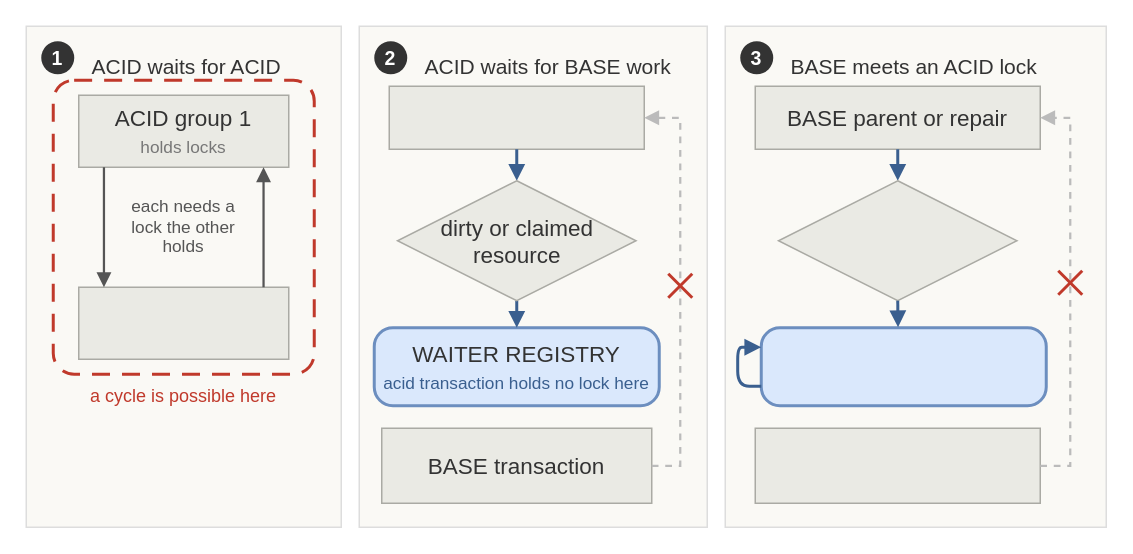
The diagram is 1133 pixels wide and 554 high, and some of its shapes have lost their labels. Each missing label, with the centre of its shape:
ACID group 2 holds locks: the point at 183,322
ACID or BASE transactions: the point at 897,465
ACID transaction: the point at 516,117
DEFERRED QUEUE claims nothing, marks nothing: the point at 903,366
resource ACID locked: the point at 897,240
